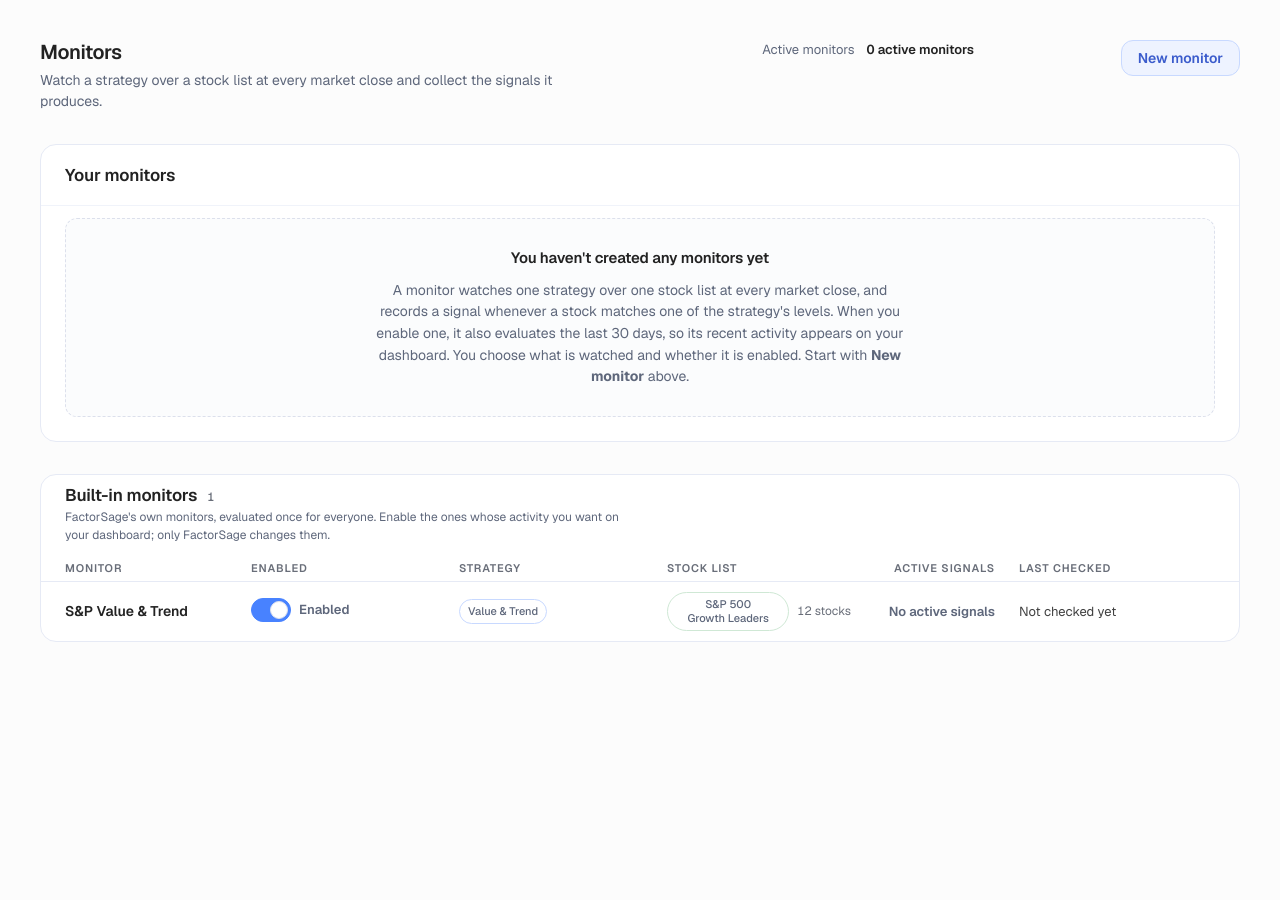
Test: MonitorsPage › keeps the row on its real state when the change is refused
This screenshot has width=1280, height=900.
Click the switch with test id "monitor-enabled-switch" at x=271, y=610, box x1=251 y1=598 x2=291 y2=622
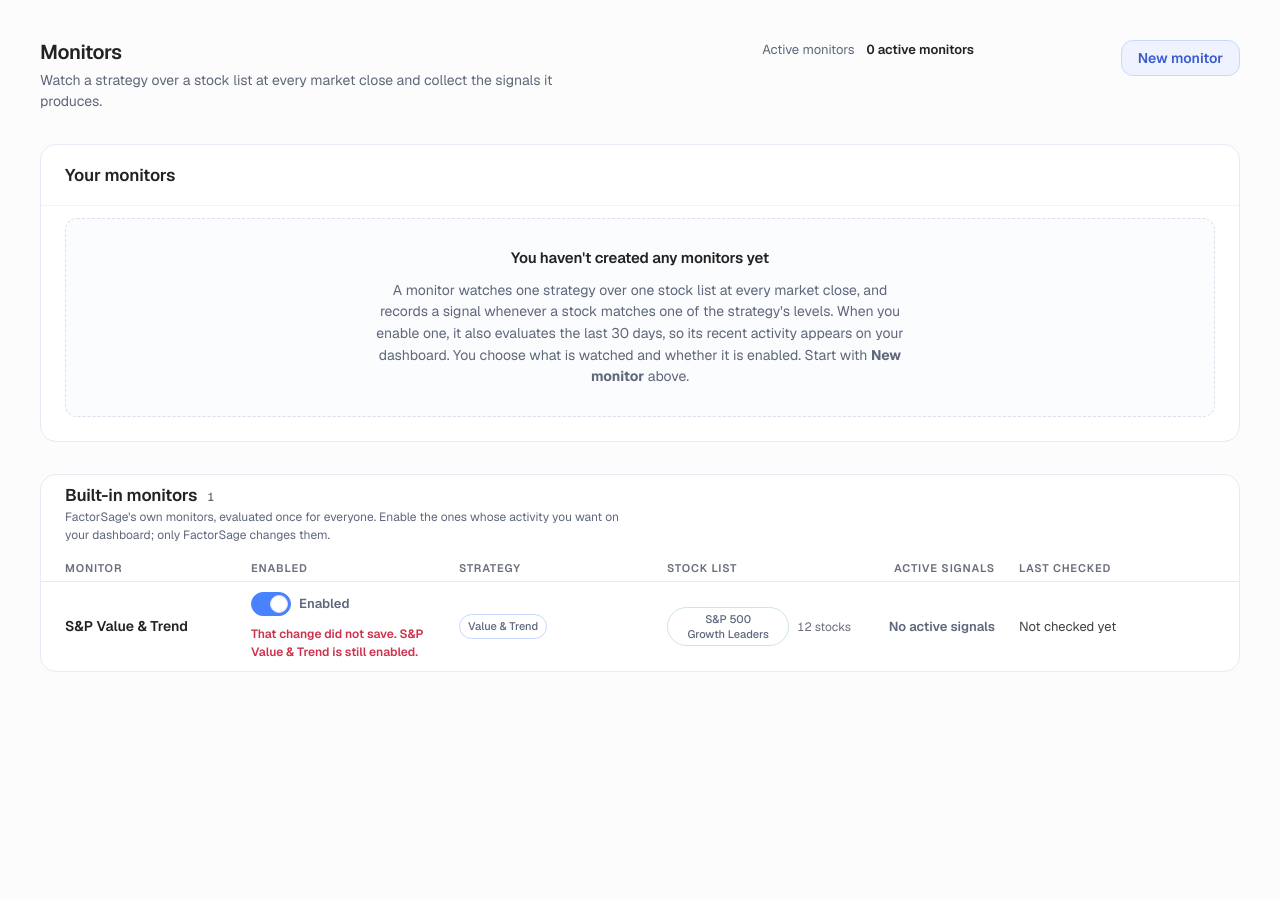
Now the message "That change did not save. S&P Value & Trend is still enabled." is shown, box x1=251 y1=626 x2=435 y2=661
